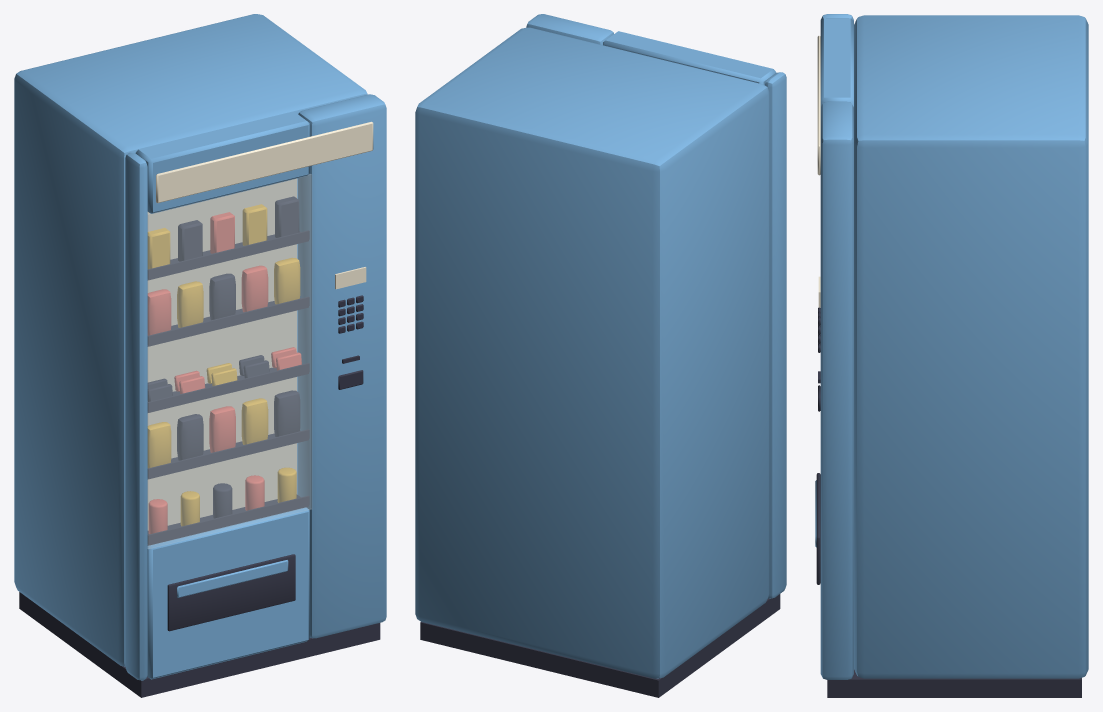
The model's file is vending_machine.glb.
3 renders of one model, left to right at view 1: azimuth 30°, elevation 25°; view 2: azimuth 150°, elevation 25°; view 3: azimuth 270°, elevation 25°, orthographic. The views are drawn at different scales.
Parts seen in each view (by area): view 1: vend_body, glass_front, charcoal, emissive_panel, snack_butter, snack_coral; view 2: vend_body, charcoal; view 3: vend_body, charcoal, emissive_panel.
Boxes of the visible parts, left/top/right/bottom form: vend_body: left=14, top=14, right=386, bottom=680; glass_front: left=148, top=174, right=311, bottom=548; charcoal: left=19, top=196, right=380, bottom=697; emissive_panel: left=147, top=121, right=373, bottom=530; snack_butter: left=147, top=204, right=300, bottom=526; snack_coral: left=147, top=212, right=301, bottom=533; vend_body: left=415, top=14, right=786, bottom=678; charcoal: left=420, top=594, right=780, bottom=697; vend_body: left=815, top=14, right=1088, bottom=679; charcoal: left=816, top=307, right=1081, bottom=697; emissive_panel: left=817, top=35, right=820, bottom=307.
Size of the model in its own units: 0.9 by 1.85 by 0.816.
